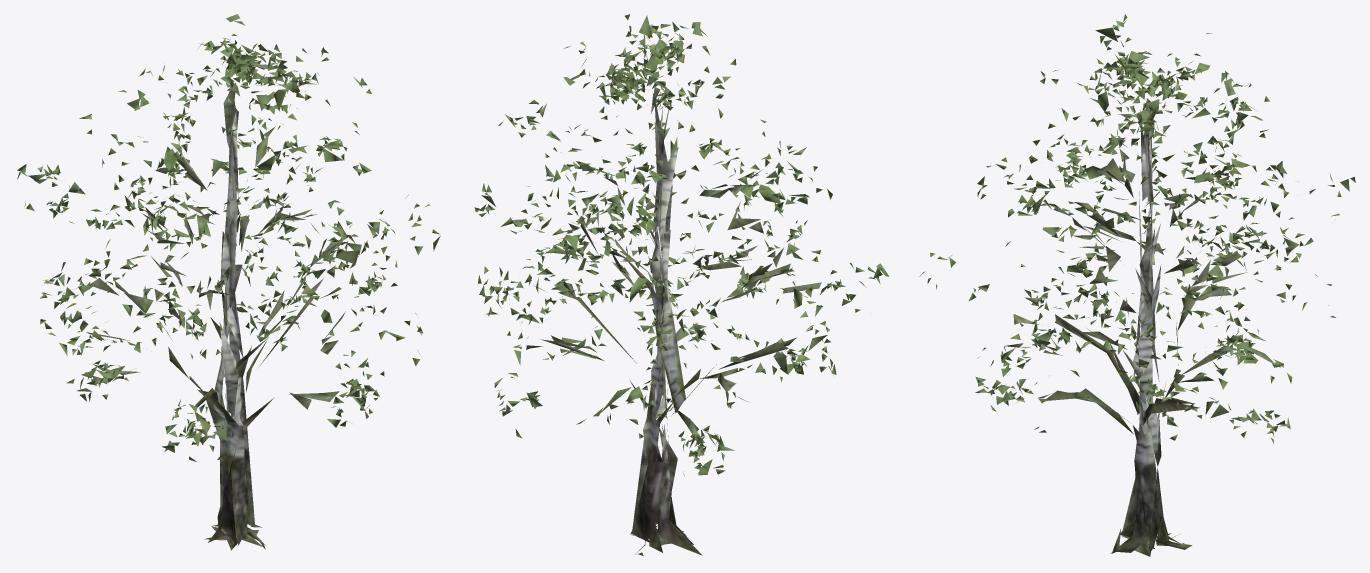
The model's file is betula_prateada_adulta-lod.glb.
3 renders of one model, left to right at view 1: azimuth 30°, elevation 25°; view 2: azimuth 150°, elevation 25°; view 3: azimuth 270°, elevation 25°, orthographic.
Parts seen in each view (by area): view 1: geometry_0; view 2: geometry_0; view 3: geometry_0.
Part boxes in pixels (left/top/right/bottom): geometry_0: left=17, top=14, right=440, bottom=550; geometry_0: left=474, top=14, right=889, bottom=555; geometry_0: left=919, top=14, right=1355, bottom=556.
Size of the model in its own units: 0.7837 by 0.9974 by 0.7603.
Materials: 1 (1 with a texture image).
